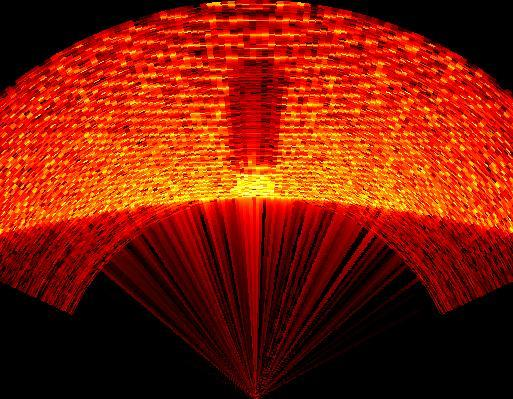box_crate: (225, 55, 295, 197)
